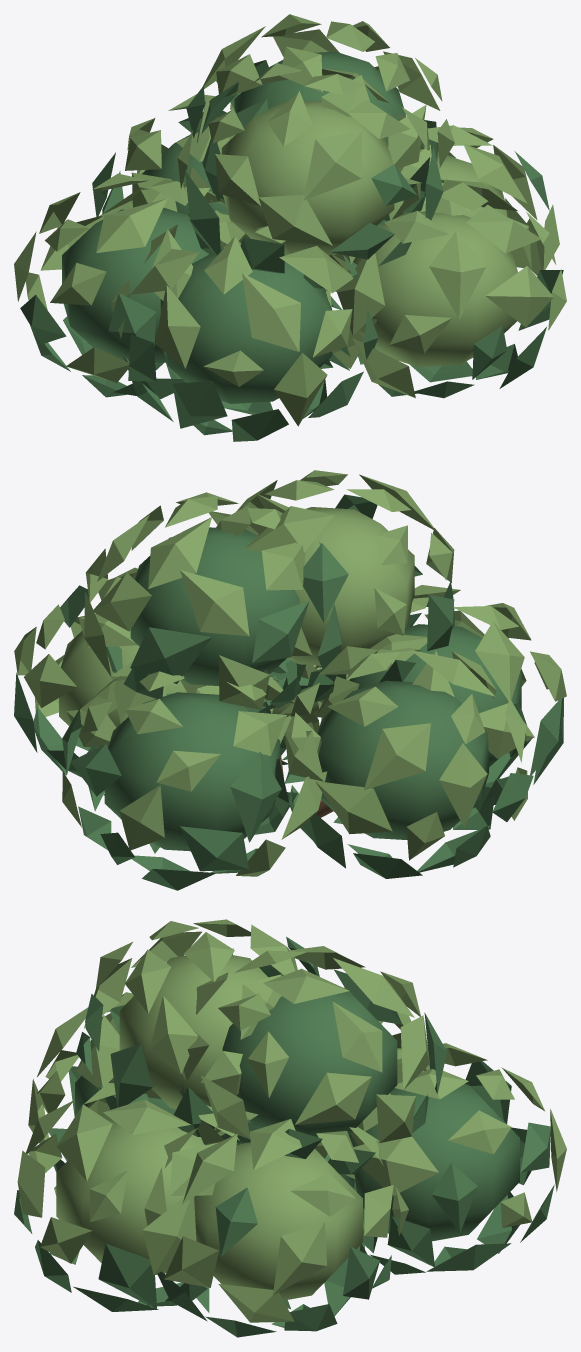
File: shrub.broad.glb
3 views of the same model, one above another, from view 1: azimuth 30°, elevation 25°; view 2: azimuth 150°, elevation 25°; view 3: azimuth 270°, elevation 25° (orthographic). The views are drawn at different scales.
Visible parts, largest first — view 1: Low woody shoot; view 2: Low woody shoot; view 3: Low woody shoot.
Part boxes in pixels (bbox=[...]): Low woody shoot: bbox=[14, 14, 566, 441]; Low woody shoot: bbox=[14, 470, 566, 890]; Low woody shoot: bbox=[14, 919, 566, 1337].
Bounding box in the file's own units: 0.9953 × 0.5913 × 0.9287.
